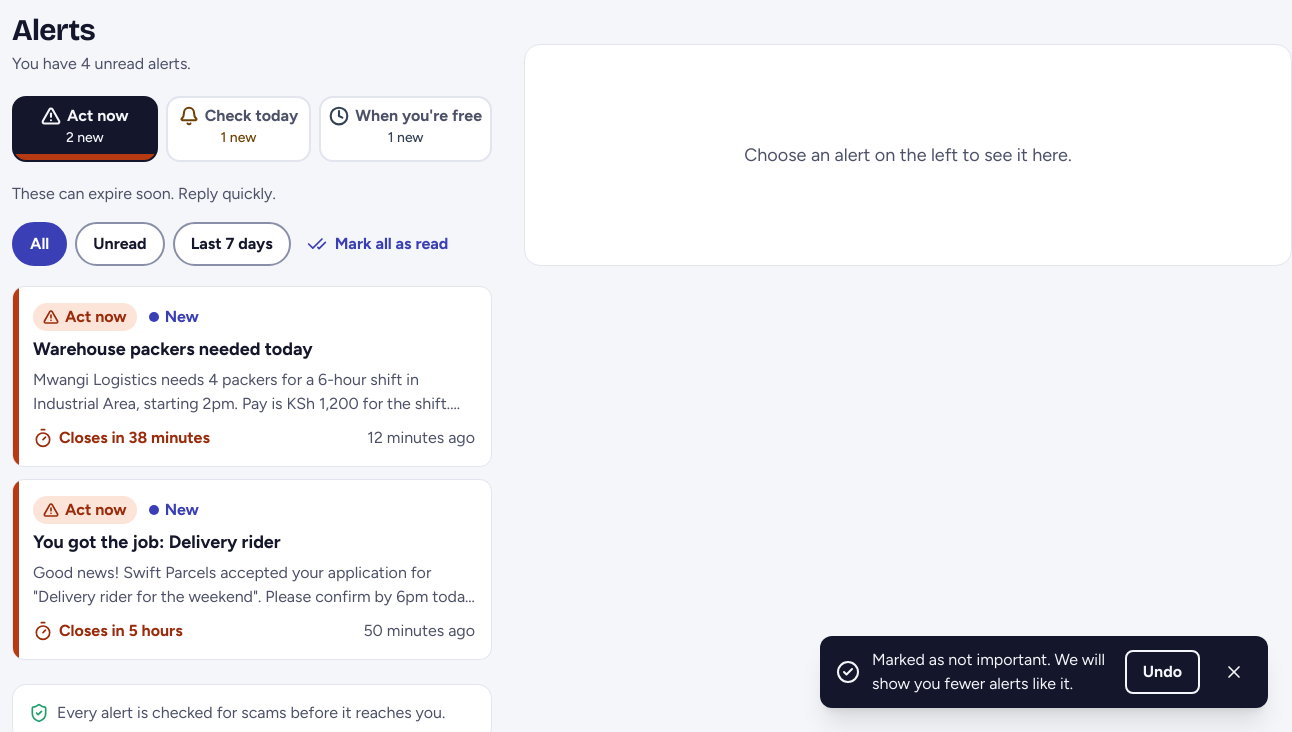
Scenario: Alerts dashboard › "Mark all as read" marks the whole category, and Undo reverses it
The width and height of the screenshot is (1292, 732).
Expected: the text "You have 4 unread alerts." is shown, top-left (12, 54), bottom-right (191, 73)
Click the button "Mark all as read".
click(378, 244)  # box top-left (299, 222), bottom-right (456, 266)
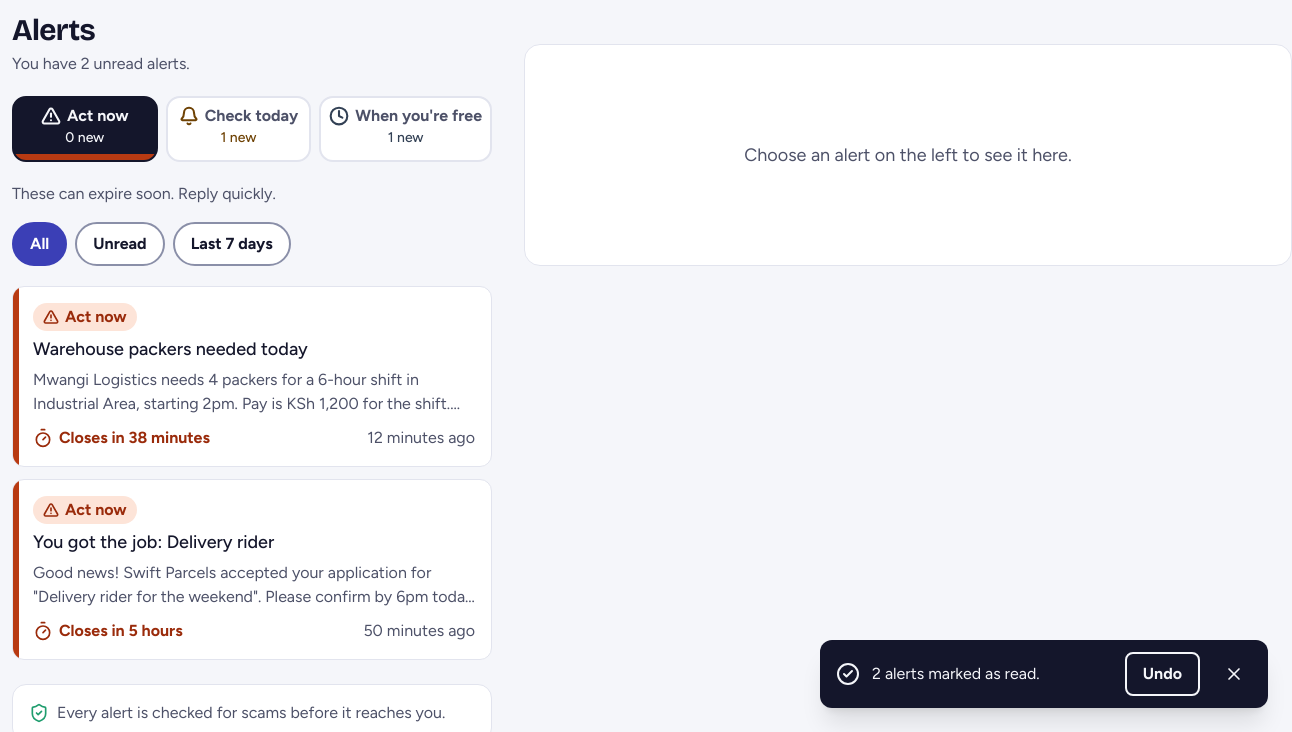
Now the text "You have 2 unread alerts." is shown, box top-left (12, 54), bottom-right (190, 73)
Now the tab "Act now 0 new" is shown, box top-left (12, 96), bottom-right (158, 162)
Click the button "Undo".
click(1162, 674)  # box top-left (1125, 652), bottom-right (1200, 696)
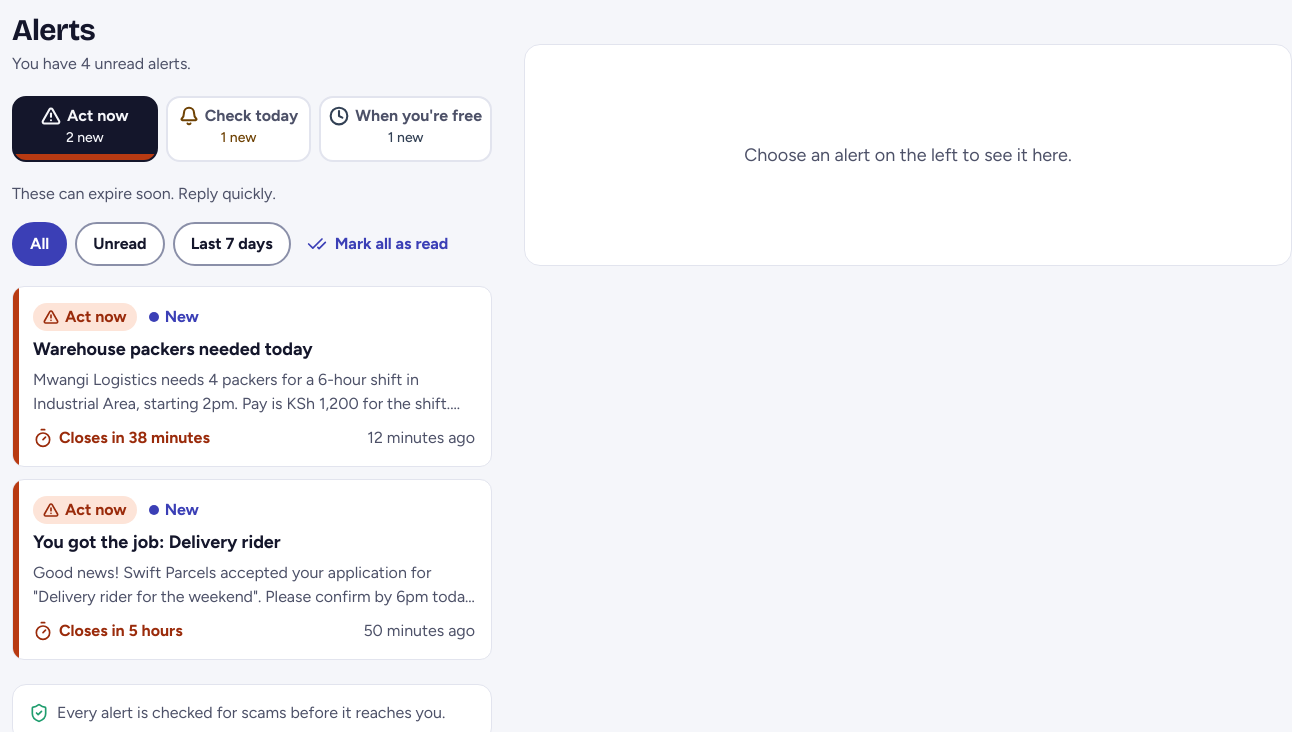
Now the text "You have 4 unread alerts." is shown, box top-left (12, 54), bottom-right (191, 73)
